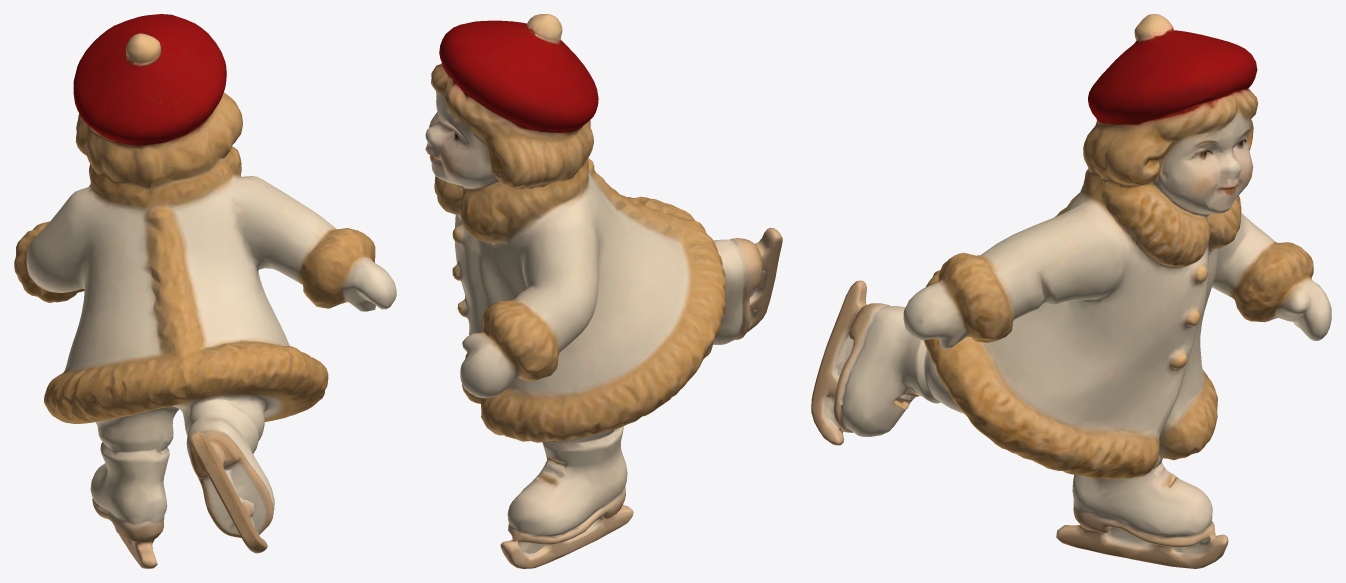
The model's file is skater.glb.
3 renders of one model, left to right at view 1: azimuth 30°, elevation 25°; view 2: azimuth 150°, elevation 25°; view 3: azimuth 270°, elevation 25°, orthographic. The views are drawn at different scales.
Size of the model in its own units: 1.12 by 2 by 1.71.
1 material, 1 textured.
